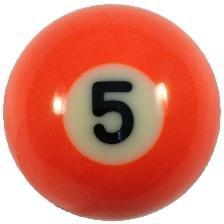Sports-Ball: (3, 9, 224, 224)
